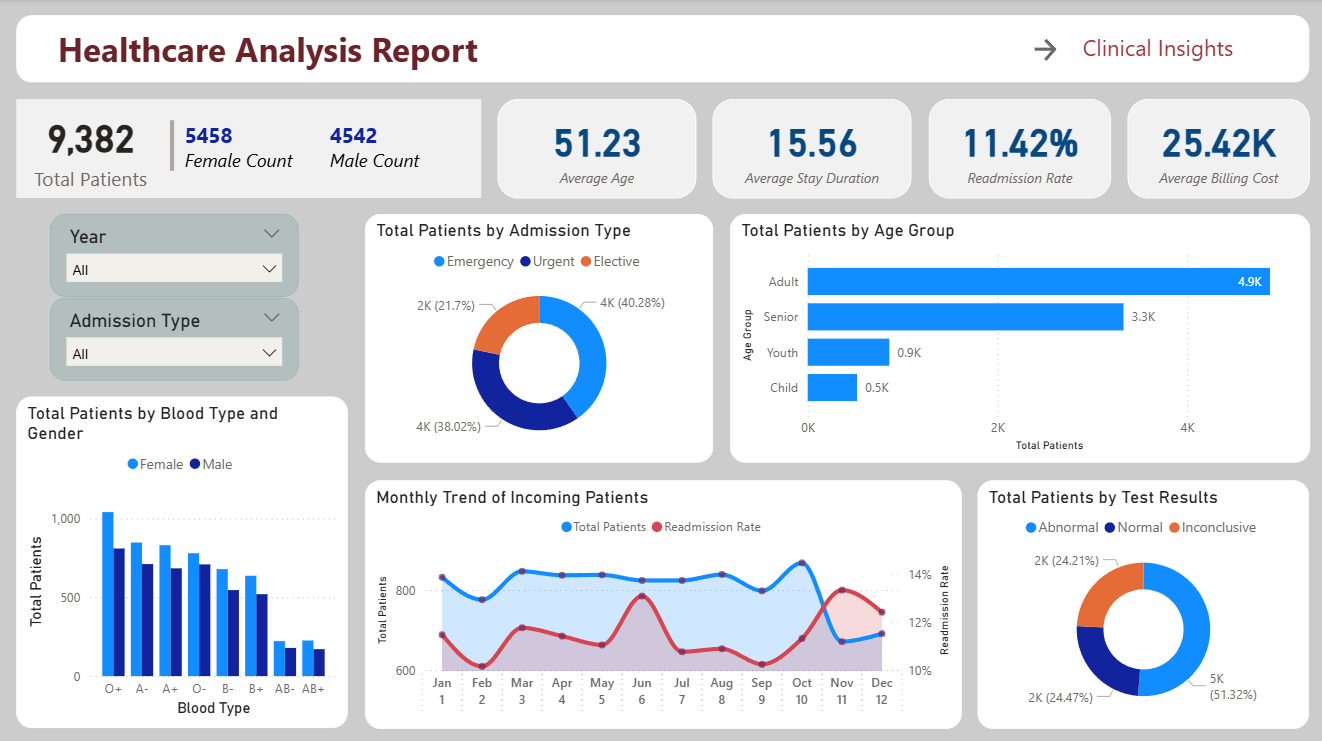

The page's visual inventory and layout, read from the dashboard file:
{"tool":"powerbi","page":{"name":"Patients Demographics","canvas":[1280,720],"ordinal":0},"visuals":[{"type":"multiRowCard","fields":{"Values":["Calculations.Female Count","Calculations.Male Count"]},"box":[160,112,304,64],"z":0,"group":"g1"},{"type":"donutChart","fields":{"Category":["healthcare_dataset.Admission Type"],"Y":["healthcare_dataset.Total Patients"]},"box":[352,208,336,240],"z":0},{"type":"card","fields":{"Values":["Calculations.Total Patients"]},"box":[16,96,144,96],"z":1000,"group":"g1"},{"type":"donutChart","fields":{"Category":["healthcare_dataset.Test Results"],"Y":["Calculations.Total Patients"]},"box":[944,464,320,240],"z":1000},{"type":"textbox","box":[16,16,1248,65],"z":2000},{"type":"textbox","box":[1056,32,192,48],"z":3000},{"type":"actionButton","box":[1008,32,48,48],"z":4000},{"type":"group","id":"g1","title":"Group 1","box":[16,96,448,96],"z":5000},{"type":"card","fields":{"Values":["Calculations.Average Age"]},"box":[480,96,192,96],"z":6000},{"type":"card","fields":{"Values":["Calculations.Average Stay Duration"]},"box":[688,96,192,96],"z":7000},{"type":"card","fields":{"Values":["Calculations.Average Billing Cost"]},"box":[1088,96,176,96],"z":8000},{"type":"card","fields":{"Values":["Calculations.Readmission Rate"]},"box":[896,96,176,96],"z":9000},{"type":"barChart","fields":{"Y":["Calculations.Total Patients"],"Category":["healthcare_dataset.Age Group"]},"box":[704,208,560,240],"z":10000},{"type":"clusteredColumnChart","fields":{"Category":["healthcare_dataset.Blood Type"],"Series":["healthcare_dataset.Gender"],"Y":["healthcare_dataset.Total Patients"]},"box":[16,384,320,320],"z":11000},{"type":"slicer","fields":{"Values":["healthcare_dataset.Admission Type"]},"box":[48,288,240,80],"z":12000},{"type":"slicer","fields":{"Values":["DateTable.Year"]},"box":[48,208,240,80],"z":13000},{"type":"areaChart","title":"Monthly Trend of Incoming Patients","fields":{"Category":["DateTable.Month Number","DateTable.Month Name"],"Y2":["Calculations.Readmission Rate"],"Y":["Calculations.Total Patients"]},"box":[352,464,576,240],"z":14000}]}

Visuals, with their boxes in screenshot pixels (x1, y1, x2, y2), scaled from the page's 1280x720 canvas onto the 1322x741 screenshot:
multiRowCard - Calculations.Female Count x Calculations.Male Count: [left=165, top=115, right=479, bottom=181]
donutChart - healthcare_dataset.Admission Type x healthcare_dataset.Total Patients: [left=364, top=214, right=711, bottom=461]
card - Calculations.Total Patients: [left=17, top=99, right=165, bottom=198]
donutChart - healthcare_dataset.Test Results x Calculations.Total Patients: [left=975, top=478, right=1305, bottom=725]
textbox: [left=17, top=16, right=1305, bottom=83]
textbox: [left=1091, top=33, right=1289, bottom=82]
actionButton: [left=1041, top=33, right=1091, bottom=82]
"Group 1" group: [left=17, top=99, right=479, bottom=198]
card - Calculations.Average Age: [left=496, top=99, right=694, bottom=198]
card - Calculations.Average Stay Duration: [left=711, top=99, right=909, bottom=198]
card - Calculations.Average Billing Cost: [left=1124, top=99, right=1305, bottom=198]
card - Calculations.Readmission Rate: [left=925, top=99, right=1107, bottom=198]
barChart - Calculations.Total Patients x healthcare_dataset.Age Group: [left=727, top=214, right=1305, bottom=461]
clusteredColumnChart - healthcare_dataset.Blood Type x healthcare_dataset.Gender: [left=17, top=395, right=347, bottom=725]
slicer - healthcare_dataset.Admission Type: [left=50, top=296, right=297, bottom=379]
slicer - DateTable.Year: [left=50, top=214, right=297, bottom=296]
"Monthly Trend of Incoming Patients" areaChart: [left=364, top=478, right=958, bottom=725]
